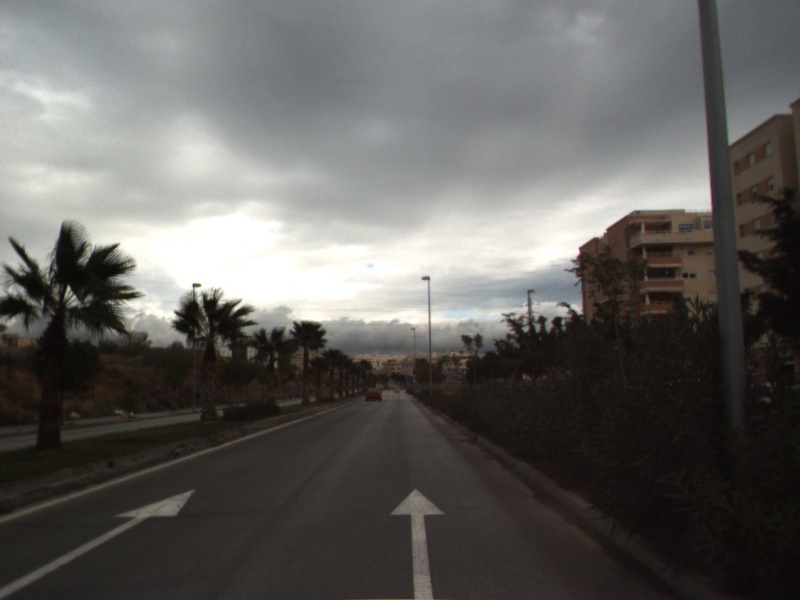STRAIGHT: (1, 487, 197, 599), (388, 486, 448, 600)
